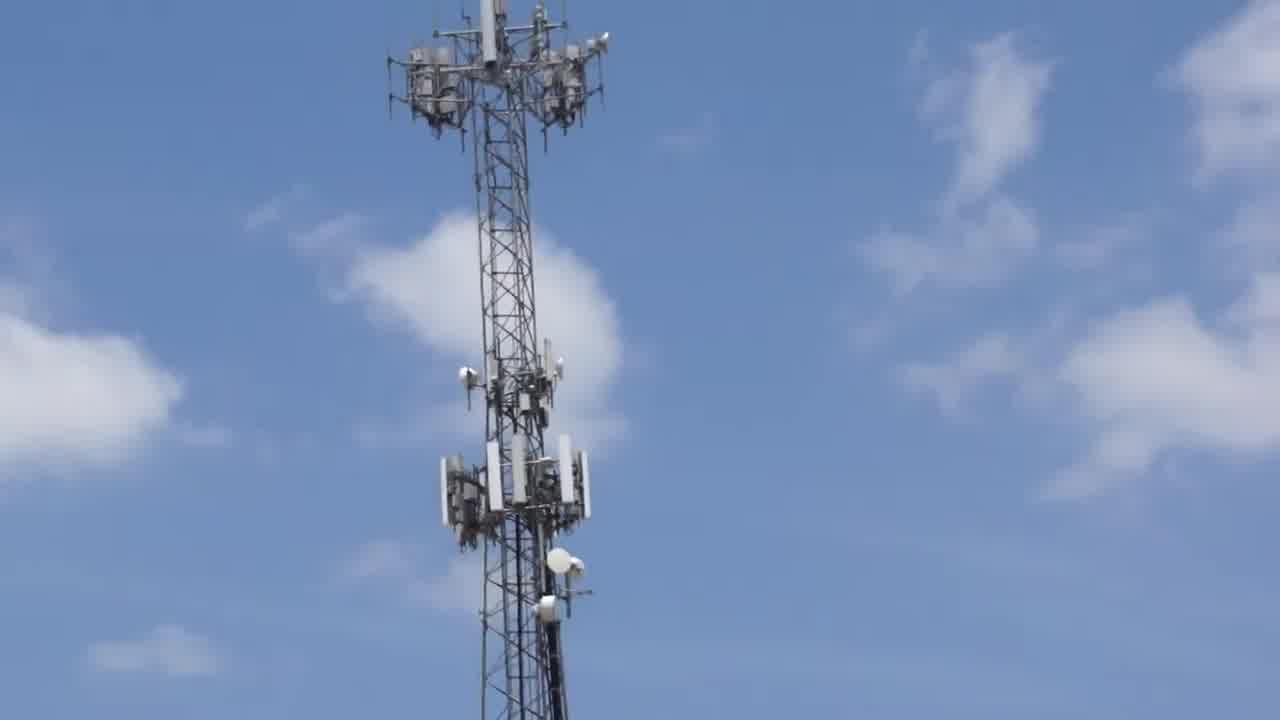Microwave Antenna: (531, 593, 567, 626), (584, 25, 619, 58), (543, 545, 567, 575), (457, 365, 478, 391), (568, 555, 589, 580), (556, 349, 567, 387)
antenna: (507, 429, 532, 515), (479, 440, 506, 515), (436, 451, 459, 531), (479, 2, 504, 75), (557, 429, 579, 507), (579, 452, 598, 526)
